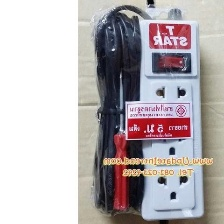three_eye_plug: (128, 15, 209, 224)
